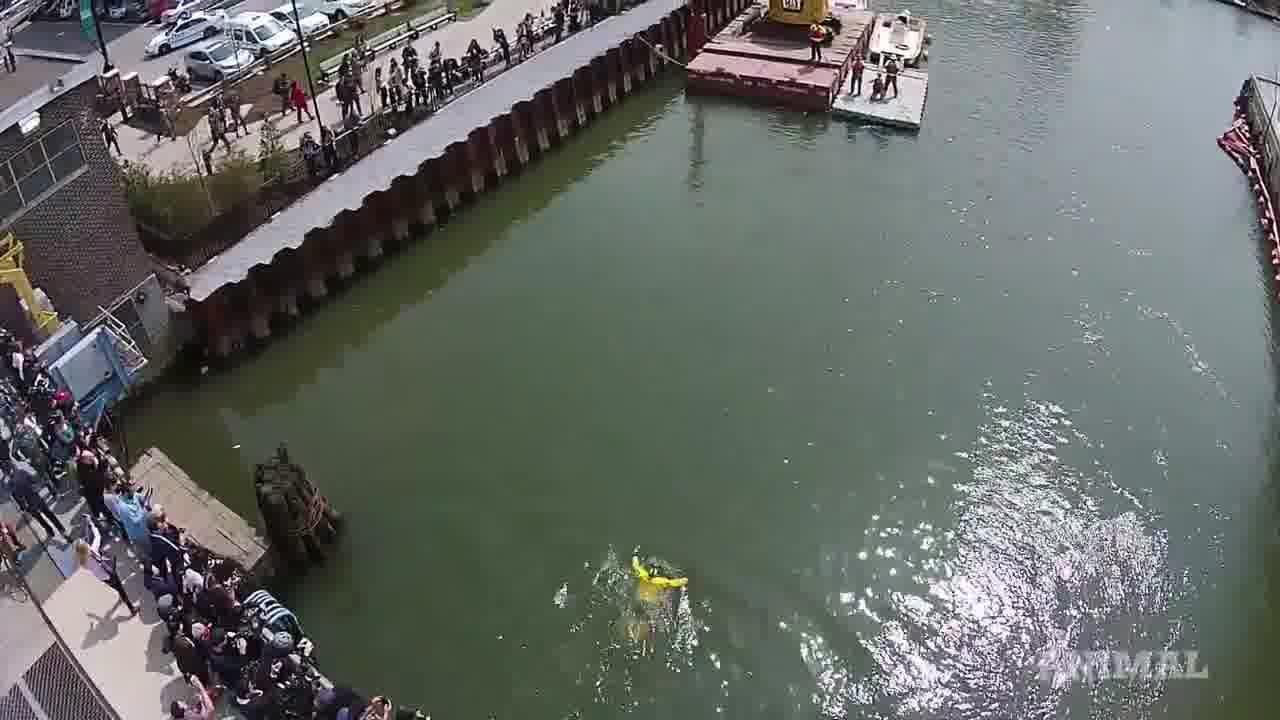human: (629, 546, 710, 613)
